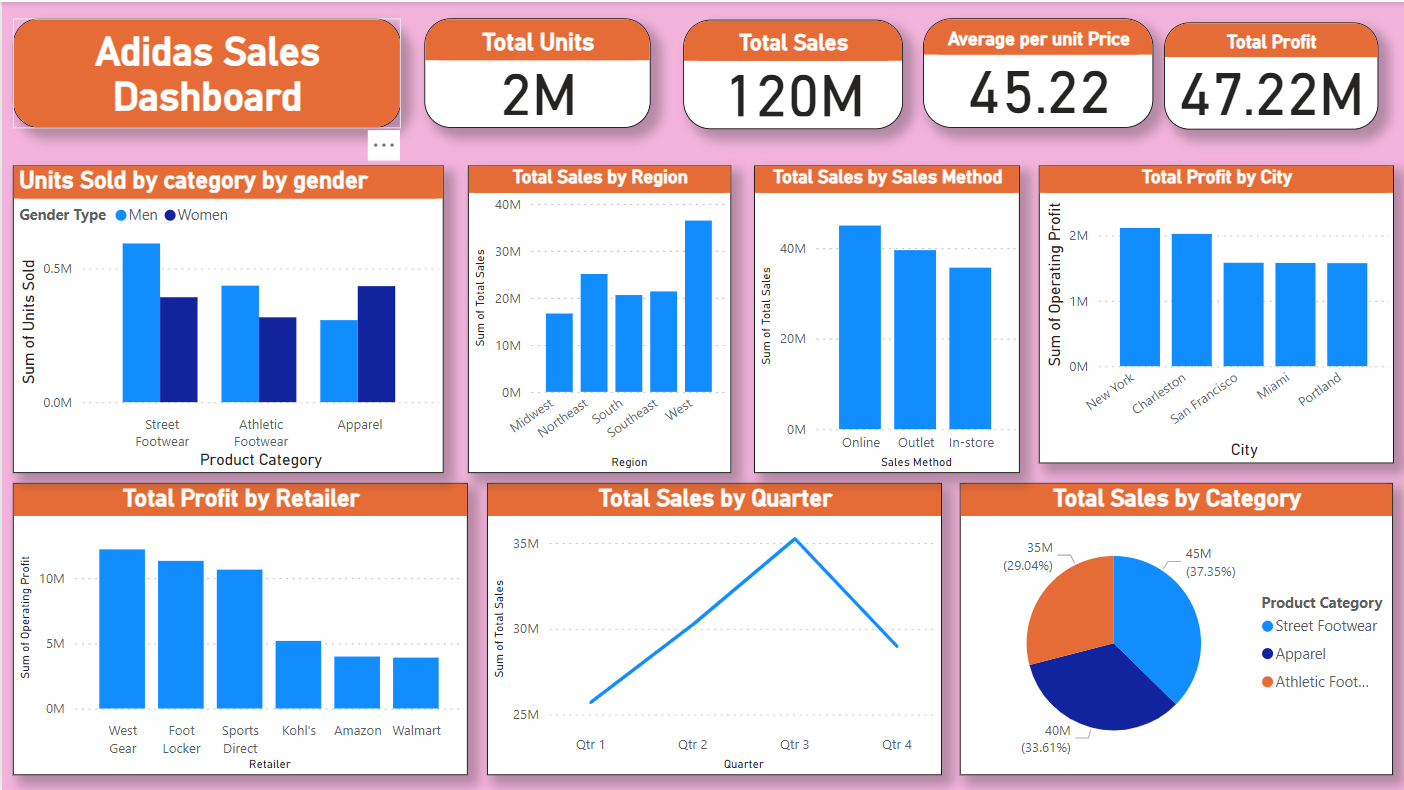

The dashboard page shown, as its layout file describes it:
{"tool":"powerbi","page":{"name":"Page 1","canvas":[1280,720],"ordinal":0},"visuals":[{"type":"textbox","title":"Adidas Sales Dashboard","box":[10,15,353.8,100],"z":0},{"type":"card","title":"Average per unit Price","fields":{"Values":["Avg(Sales_details.Price per Unit)"]},"box":[840,15,210,100],"z":1000},{"type":"card","title":"Total Units","fields":{"Values":["Sum(Sales_details.Units Sold)"]},"box":[385,15,206.2,100],"z":2000},{"type":"card","title":"Total Sales","fields":{"Values":["Sum(Sales_details.Total Sales)"]},"box":[621.2,16.2,200,100],"z":3000},{"type":"card","title":"Total Profit","fields":{"Values":["Sum(Sales_details.Operating Profit)"]},"box":[1060,18.8,195,97.5],"z":4000},{"type":"columnChart","title":"Total Profit by Retailer","fields":{"Y":["Sum(Sales_details.Operating Profit)"],"Category":["Sales_details.Retailer"]},"box":[10,438.8,415,266.2],"z":5000},{"type":"lineChart","title":"Total Sales by Quarter","fields":{"Category":["Sales_details.Invoice Date.Variation.Date Hierarchy.Year","Sales_details.Invoice Date.Variation.Date Hierarchy.Quarter","Sales_details.Invoice Date.Variation.Date Hierarchy.Month","Sales_details.Invoice Date.Variation.Date Hierarchy.Day"],"Y":["Sum(Sales_details.Total Sales)"]},"box":[442.5,438.8,415,266.2],"z":6000},{"type":"pieChart","title":"Total Sales by Category","fields":{"Category":["Sales_details.Product Category"],"Y":["Sum(Sales_details.Total Sales)"]},"box":[873.8,438.8,395,266.2],"z":7000},{"type":"clusteredColumnChart","title":"Units Sold by category by gender","fields":{"Category":["Sales_details.Product Category"],"Y":["Sum(Sales_details.Units Sold)"],"Series":["Sales_details.Gender Type"]},"box":[10,148.8,392.5,280],"z":8000},{"type":"columnChart","title":"Total Sales by Sales Method","fields":{"Category":["Sales_details.Sales Method"],"Y":["Sum(Sales_details.Total Sales)"]},"box":[686.2,148.8,242.5,280],"z":9000},{"type":"columnChart","title":"Total Sales by Region","fields":{"Category":["Sales_details.Region Hierarchy.Region","Sales_details.Region Hierarchy.State","Sales_details.Region Hierarchy.City"],"Y":["Sum(Sales_details.Total Sales)"]},"box":[425,148.8,240,280],"z":10000},{"type":"columnChart","title":"Total Profit by City","fields":{"Category":["Sales_details.City"],"Y":["Sum(Sales_details.Operating Profit)"]},"box":[945,148.8,323.8,271.2],"z":11000}]}

Visuals, with their boxes in screenshot pixels (x1, y1, x2, y2), scaled from the page's 1280x720 canvas onto the 1404x790 screenshot:
"Adidas Sales Dashboard" textbox: <box>11,16,399,126</box>
"Average per unit Price" card: <box>921,16,1152,126</box>
"Total Units" card: <box>422,16,648,126</box>
"Total Sales" card: <box>681,18,901,127</box>
"Total Profit" card: <box>1163,21,1377,128</box>
"Total Profit by Retailer" columnChart: <box>11,481,466,774</box>
"Total Sales by Quarter" lineChart: <box>485,481,941,774</box>
"Total Sales by Category" pieChart: <box>958,481,1392,774</box>
"Units Sold by category by gender" clusteredColumnChart: <box>11,163,441,470</box>
"Total Sales by Sales Method" columnChart: <box>753,163,1019,470</box>
"Total Sales by Region" columnChart: <box>466,163,729,470</box>
"Total Profit by City" columnChart: <box>1037,163,1392,461</box>
